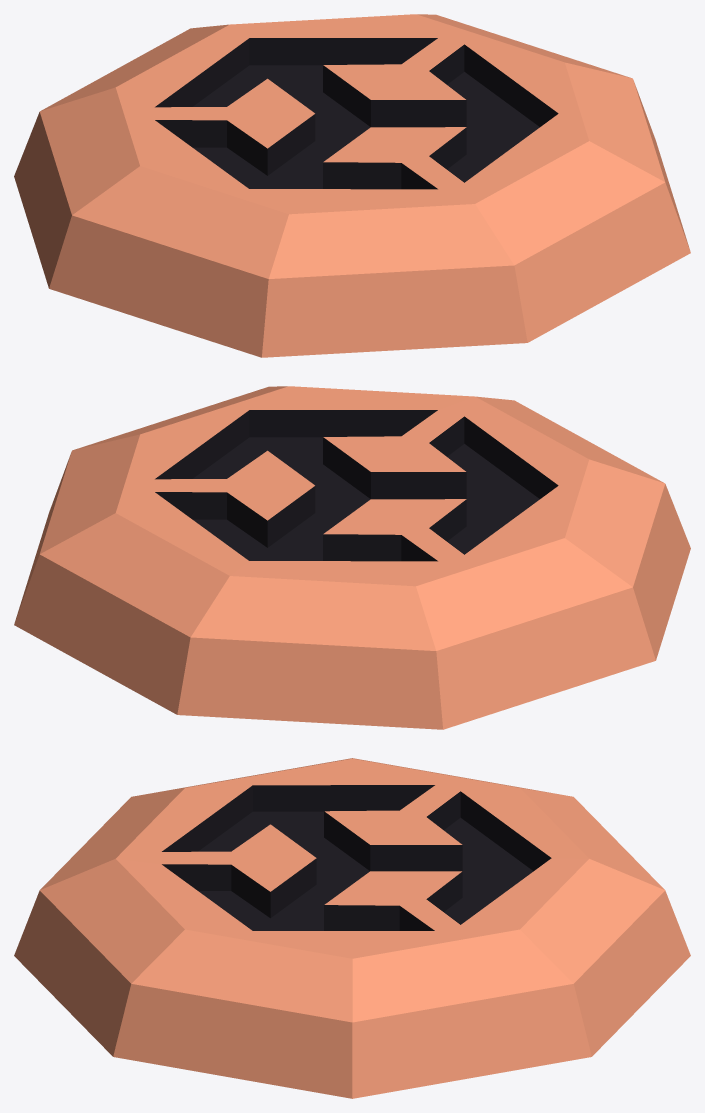
File: CookieUnity.fbx
3 renders of one model, top to bottom at view 1: azimuth 30°, elevation 25°; view 2: azimuth 150°, elevation 25°; view 3: azimuth 270°, elevation 25°, orthographic. The views are drawn at different scales.
Visible parts, largest first — view 1: Cookie; view 2: Cookie; view 3: Cookie.
Part boxes in pixels (x1,y1,x2,y2): Cookie: (14,14,690,357); Cookie: (14,386,690,729); Cookie: (14,758,690,1098).
Bounding box in the file's own units: 49.15 × 7.83 × 49.15.
